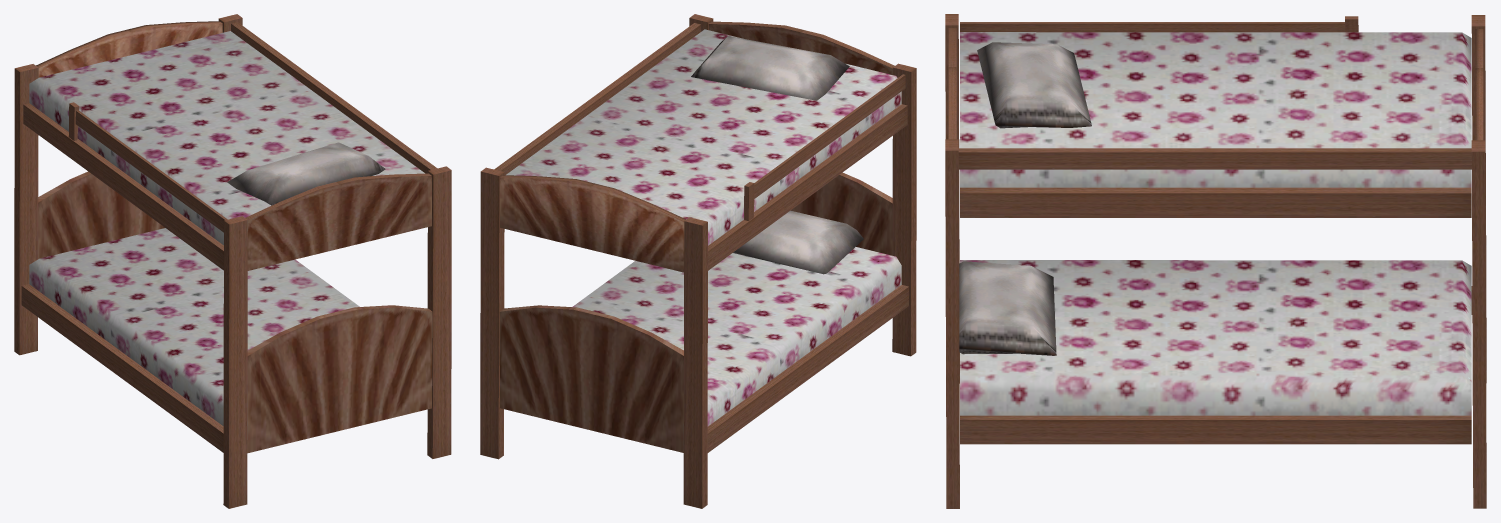
File: bunkbedwood2.fbx
The picture shows the model from 3 angles, left to right: view 1: azimuth 30°, elevation 25°; view 2: azimuth 150°, elevation 25°; view 3: azimuth 270°, elevation 25°; orthographic projection. The views are drawn at different scales.
Visible parts, largest first — view 1: mesh_8, mesh_3, mesh_1, mesh_11, mesh_14, mesh_10, mesh_13, mesh_15, mesh_0, mesh_5, mesh_9, mesh_6 (+2 smaller); view 2: mesh_8, mesh_3, mesh_10, mesh_6, mesh_15, mesh_12, mesh_9, mesh_14, mesh_0, mesh_5, mesh_4, mesh_1 (+3 smaller); view 3: mesh_3, mesh_8, mesh_7, mesh_2, mesh_18, mesh_4, mesh_9, mesh_13, mesh_12, mesh_16, mesh_15, mesh_14 (+2 smaller).
Boxes of the visible parts, left/top/right/bottom form: mesh_8: left=29, top=31, right=424, bottom=245; mesh_3: left=29, top=228, right=359, bottom=425; mesh_1: left=247, top=305, right=432, bottom=453; mesh_11: left=245, top=173, right=431, bottom=270; mesh_14: left=223, top=216, right=247, bottom=508; mesh_10: left=38, top=171, right=164, bottom=258; mesh_13: left=427, top=166, right=451, bottom=458; mesh_15: left=14, top=64, right=38, bottom=355; mesh_0: left=21, top=284, right=223, bottom=452; mesh_5: left=23, top=103, right=223, bottom=270; mesh_9: left=227, top=142, right=385, bottom=205; mesh_6: left=36, top=21, right=222, bottom=77; mesh_8: left=506, top=29, right=901, bottom=245; mesh_3: left=572, top=247, right=901, bottom=426; mesh_10: left=499, top=305, right=683, bottom=452; mesh_6: left=500, top=175, right=685, bottom=272; mesh_15: left=683, top=217, right=707, bottom=508; mesh_12: left=480, top=167, right=504, bottom=459; mesh_9: left=691, top=36, right=849, bottom=100; mesh_14: left=892, top=63, right=916, bottom=356; mesh_0: left=707, top=285, right=908, bottom=452; mesh_5: left=708, top=104, right=907, bottom=270; mesh_4: left=733, top=210, right=863, bottom=274; mesh_1: left=791, top=172, right=892, bottom=255; mesh_3: left=960, top=260, right=1471, bottom=415; mesh_8: left=960, top=32, right=1471, bottom=187; mesh_7: left=960, top=187, right=1471, bottom=217; mesh_2: left=960, top=415, right=1471, bottom=444; mesh_18: left=958, top=148, right=1471, bottom=169; mesh_4: left=959, top=261, right=1056, bottom=355; mesh_9: left=977, top=42, right=1091, bottom=128; mesh_13: left=945, top=139, right=959, bottom=508; mesh_12: left=1471, top=140, right=1486, bottom=508; mesh_16: left=960, top=22, right=1344, bottom=32; mesh_15: left=1471, top=15, right=1486, bottom=382; mesh_14: left=945, top=14, right=959, bottom=383.
Size of the model in its own units: 120 by 156 by 201.
1 material, 1 textured.
